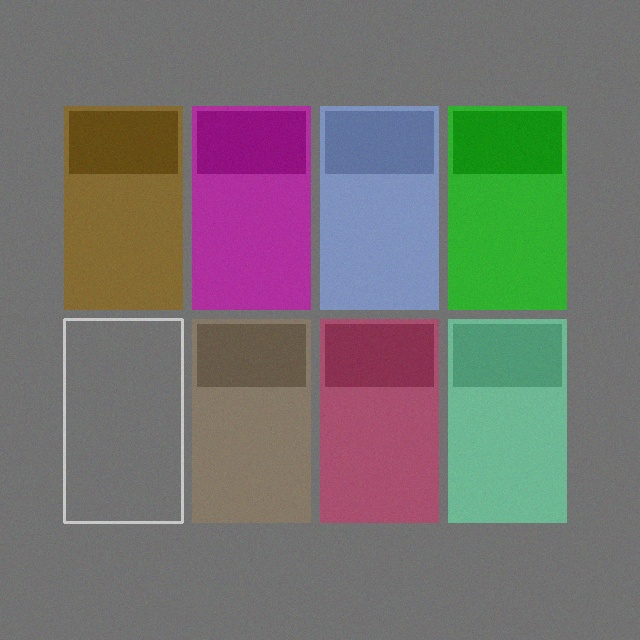space-empty: (64, 319, 182, 522)
space-occupied: (64, 106, 182, 309), (192, 106, 310, 309), (320, 106, 438, 309), (448, 106, 566, 309), (192, 319, 310, 522), (320, 319, 438, 522), (448, 319, 566, 522)
